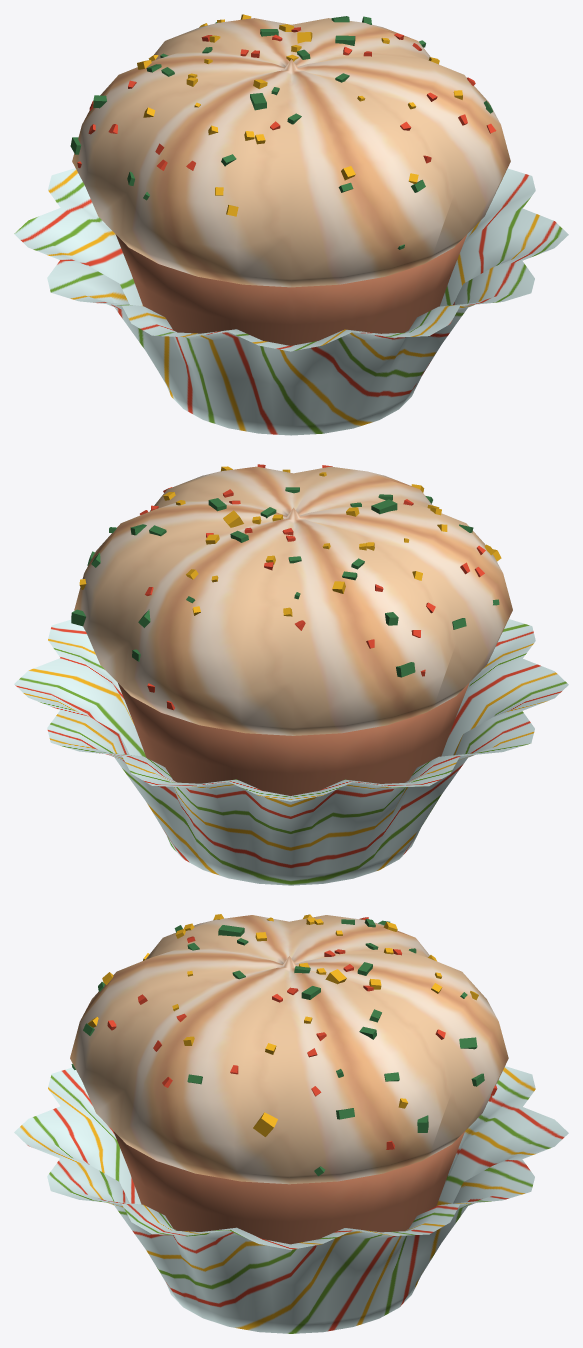
Rendered from cupcake_cream_0.fbx.
The picture shows the model from 3 angles, top to bottom: view 1: azimuth 30°, elevation 25°; view 2: azimuth 150°, elevation 25°; view 3: azimuth 270°, elevation 25°; orthographic projection.
Visible parts, largest first — view 1: cupcake_sufle; view 2: cupcake_sufle; view 3: cupcake_sufle.
Boxes of the visible parts, bbox=[...] form: cupcake_sufle: bbox=[14, 14, 568, 435]; cupcake_sufle: bbox=[14, 464, 568, 885]; cupcake_sufle: bbox=[14, 914, 568, 1333].
Bounding box in the file's own units: 13.96 × 9.09 × 13.96.
